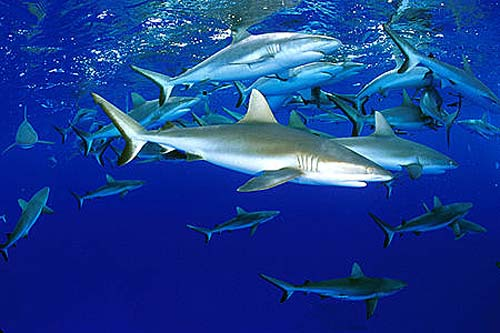Carcharhinus_amblyrhynchos: (86, 87, 465, 195), (130, 17, 361, 101), (247, 263, 423, 327), (179, 199, 298, 248), (1, 176, 57, 266), (63, 174, 156, 215), (1, 91, 44, 165)
